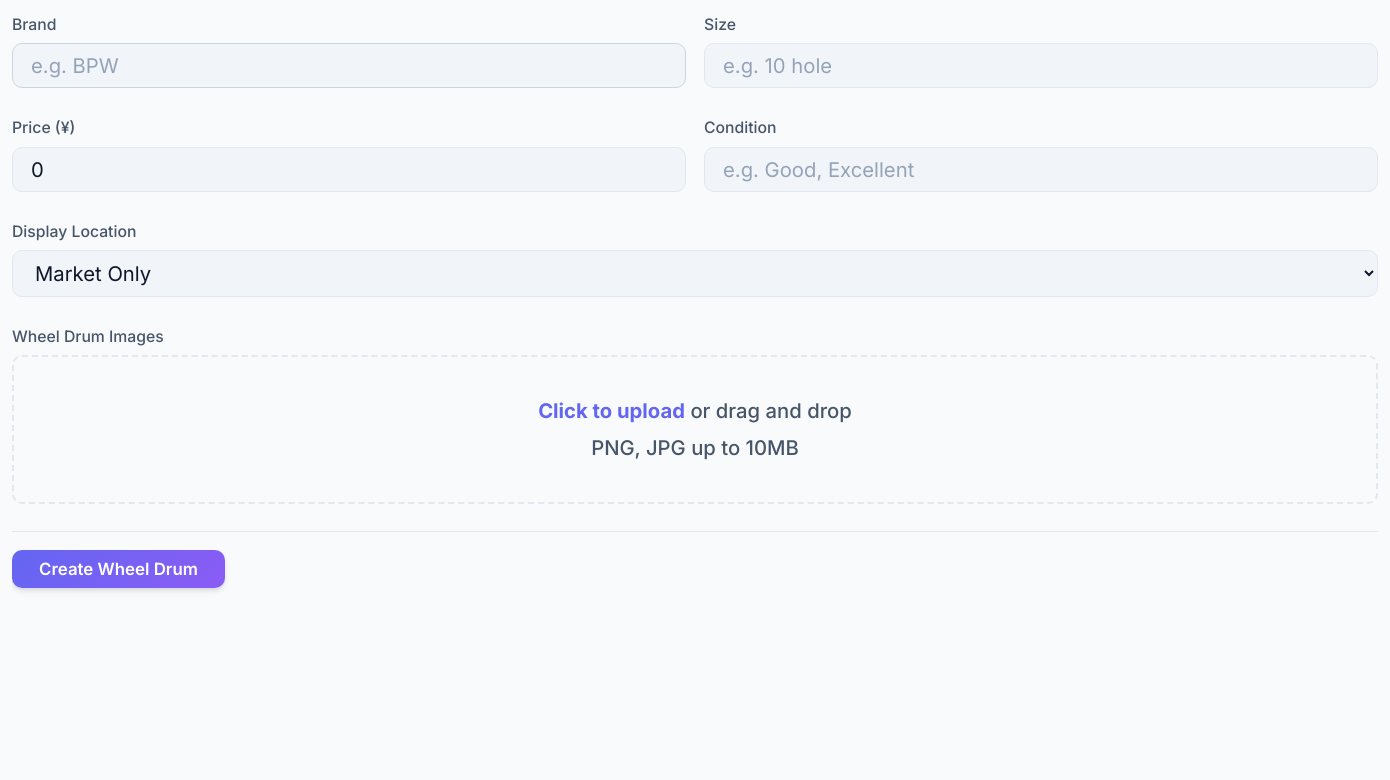
Test case: WheelDrumForm › form submission - create › should reset form after successful creation
Step 1. Type "BPW" into the field labelled "Brand" → point(349, 66), box [12, 43, 686, 88]
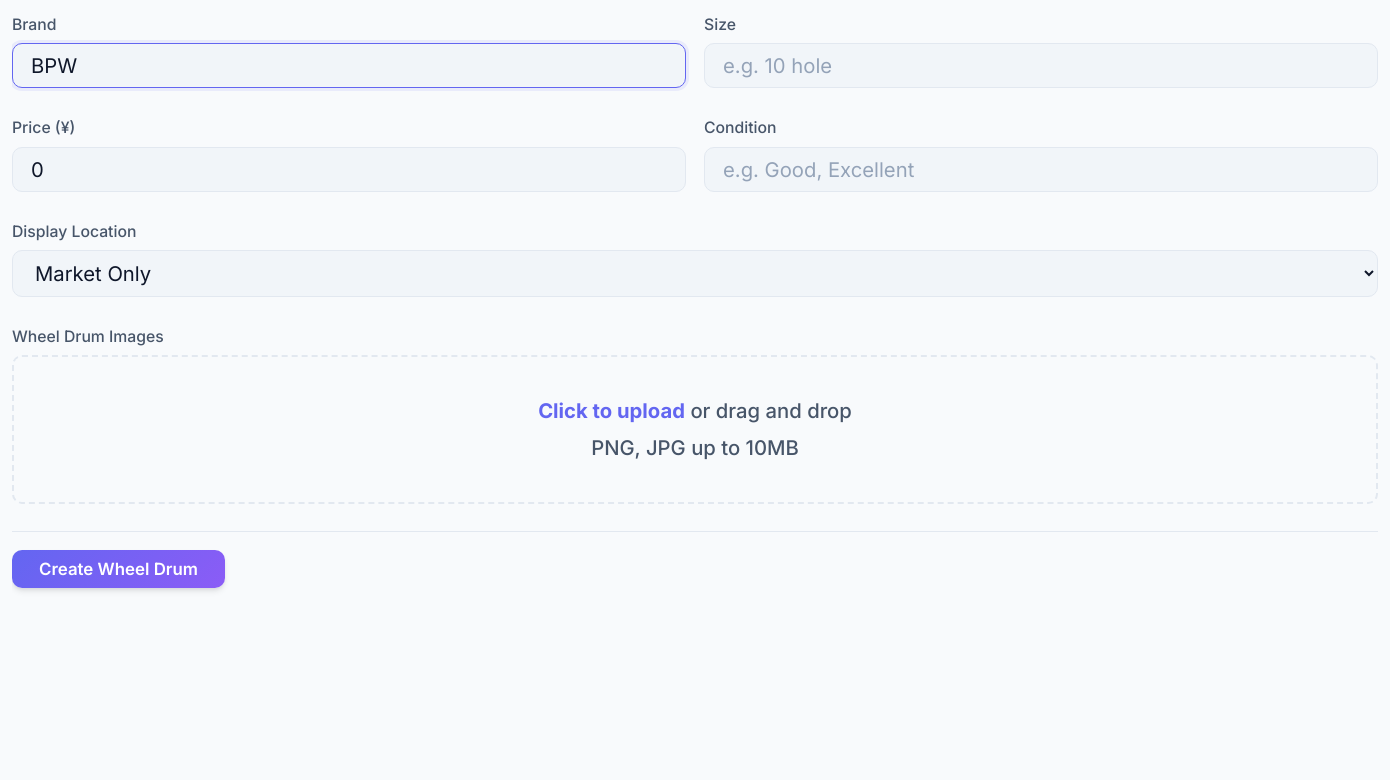
Step 2. Type "10 hole" into the field labelled "Size" → point(1041, 66), box [704, 43, 1378, 88]
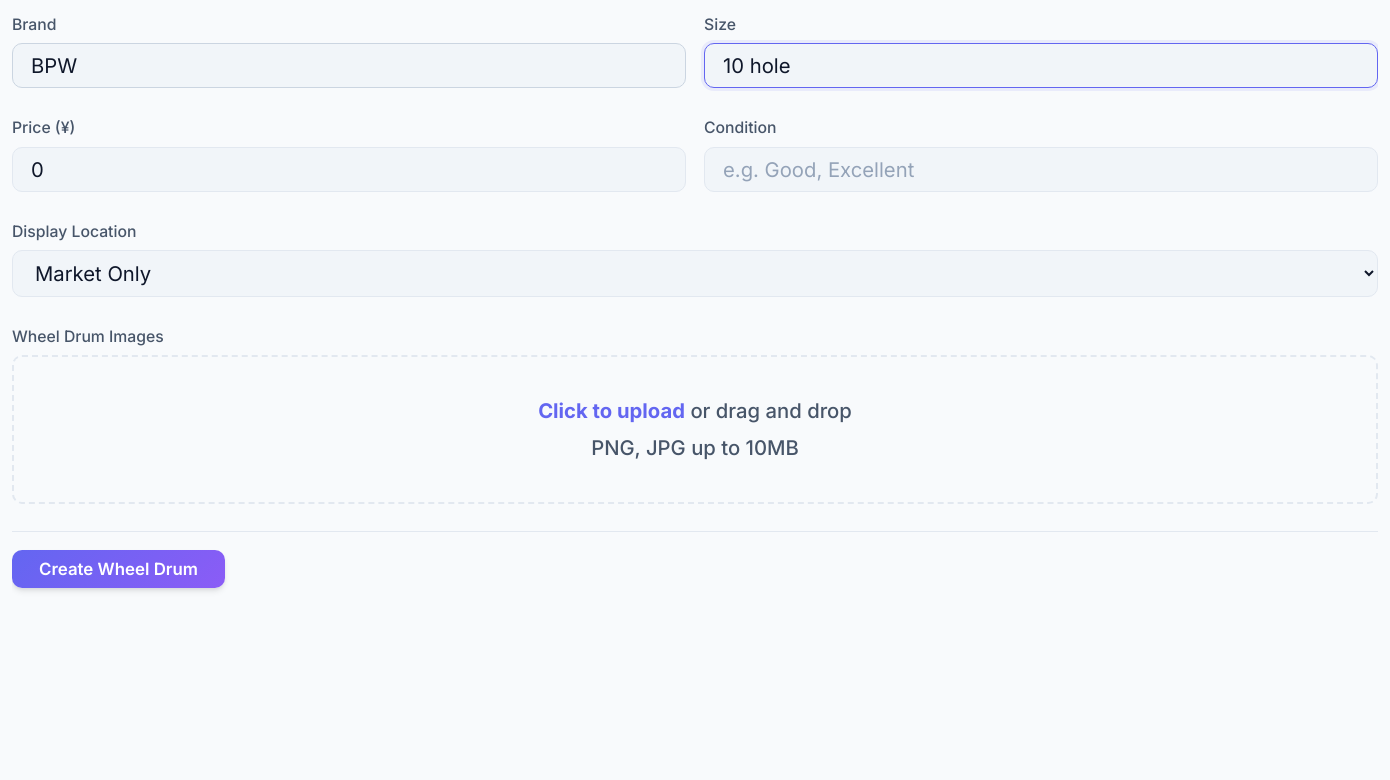
Step 3. Replace the text in the number field labelled "Price (¥)" with "200" → point(349, 169), box [12, 146, 686, 192]
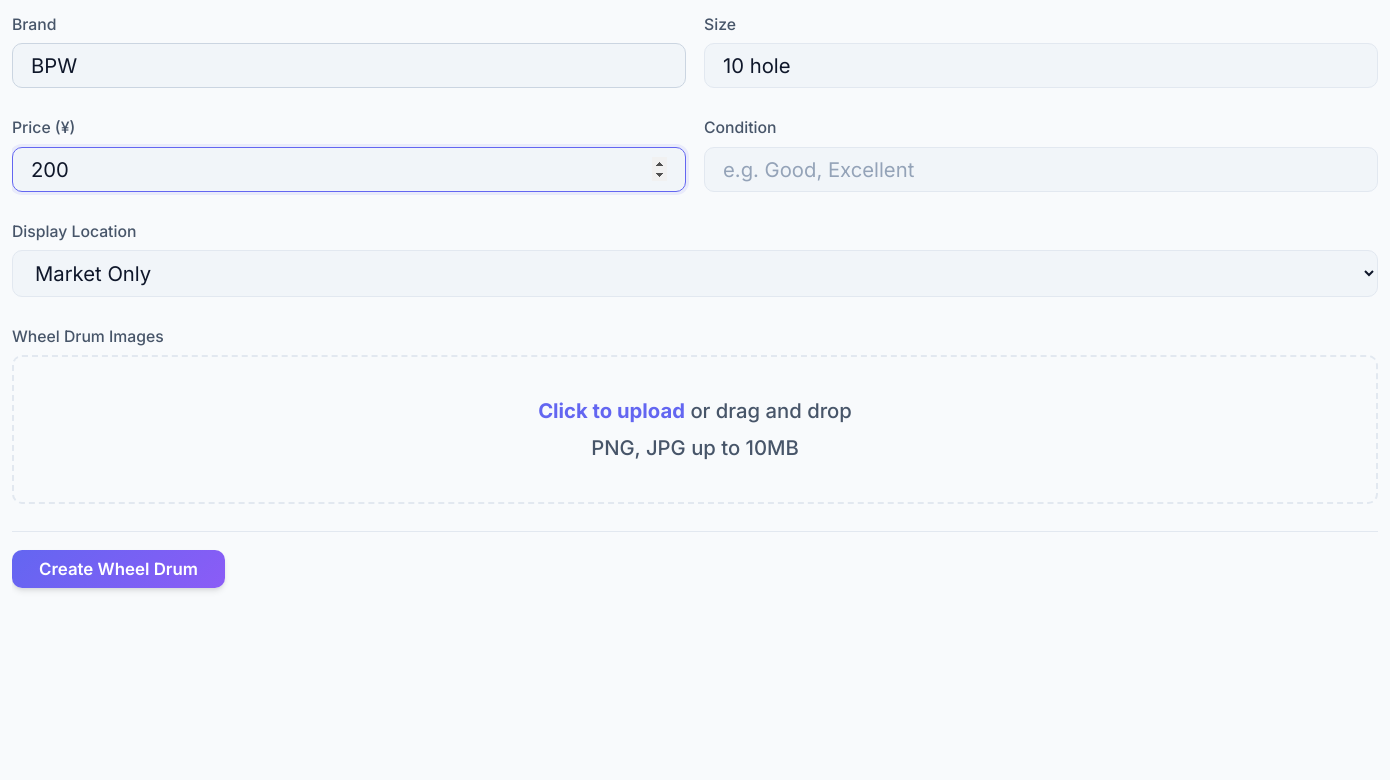
Step 4. Type "Good" into the field labelled "Condition" → point(1041, 169), box [704, 146, 1378, 192]
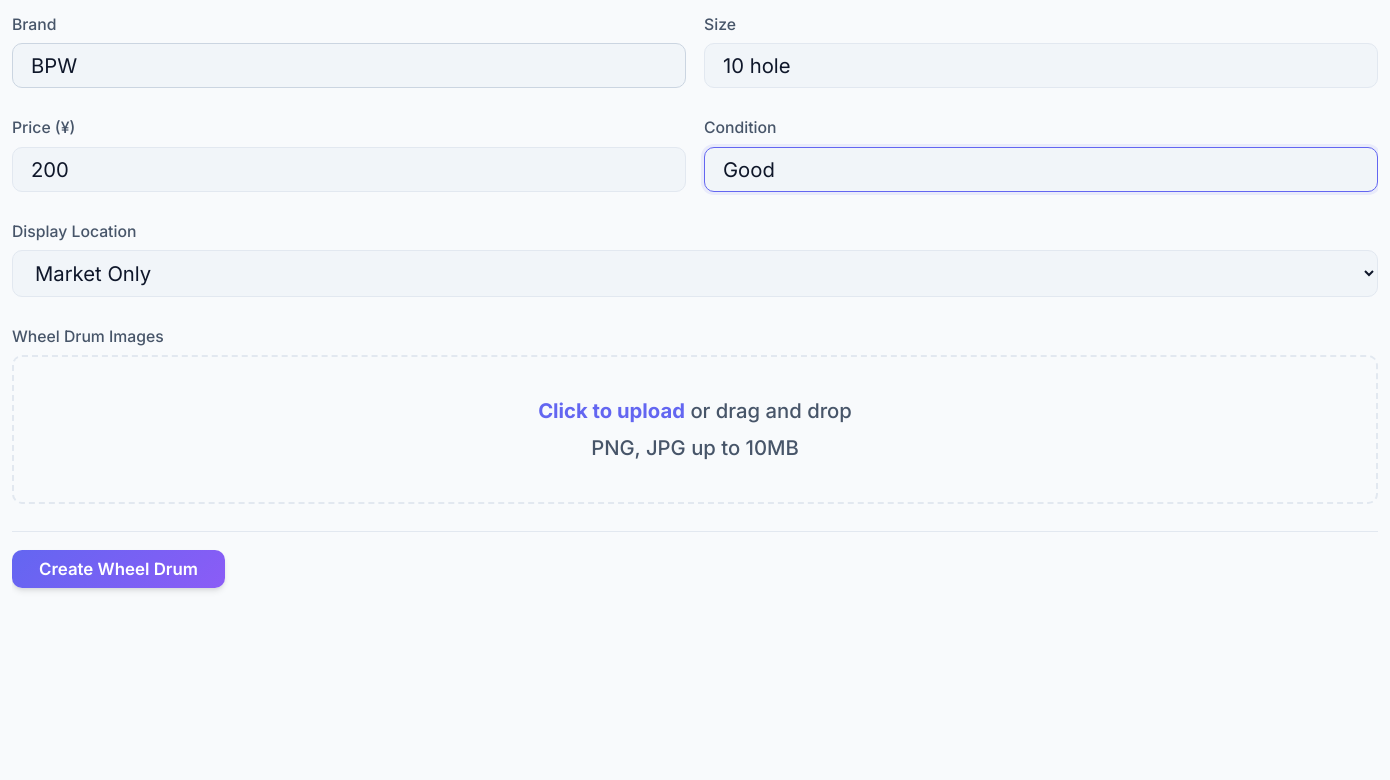
Step 5. Click the button "Create Wheel Drum" → point(119, 569), box [12, 550, 225, 588]
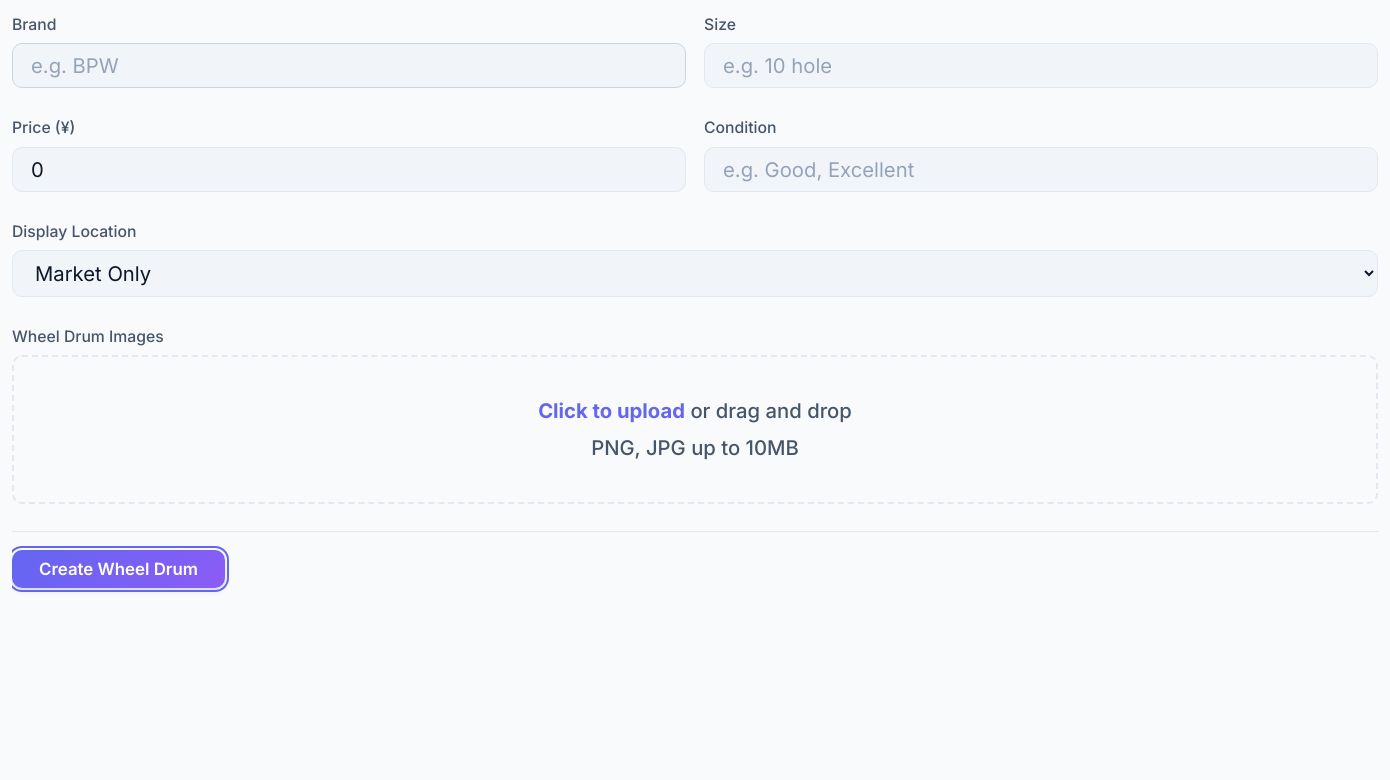
expect the field labelled "Brand" is empty: met, box [12, 43, 686, 88]
expect the field labelled "Size" is empty: met, box [704, 43, 1378, 88]
expect the number field labelled "Price (¥)" holds "0": met, box [12, 146, 686, 192]
